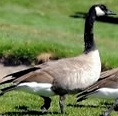goose: (1, 2, 115, 116)
